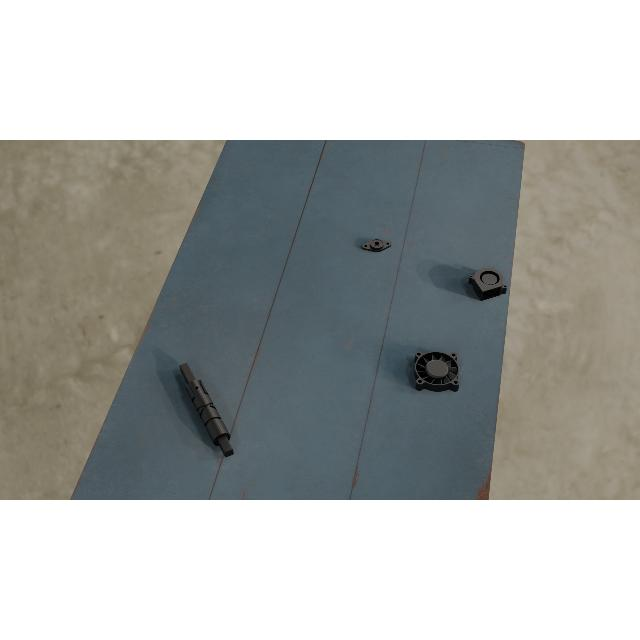Pieza1: (175, 358, 238, 462)
Pieza2: (361, 236, 393, 254)
Pieza3: (466, 264, 509, 302)
Pieza4: (414, 351, 461, 393)
